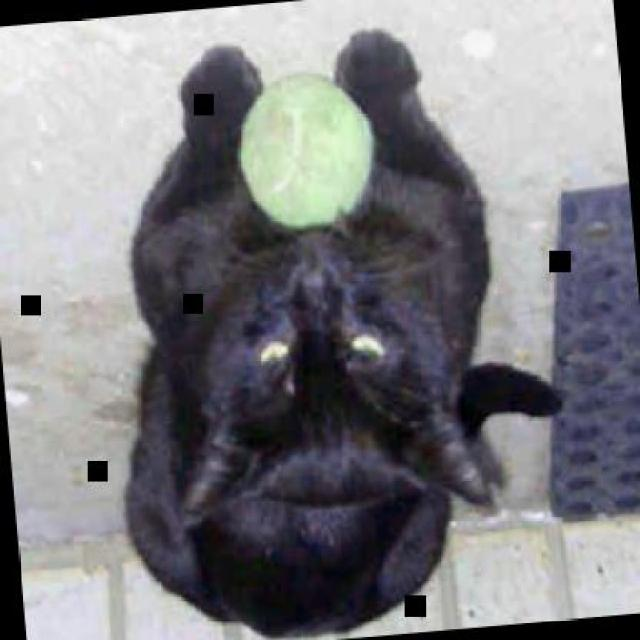cat: (85, 17, 583, 638)
